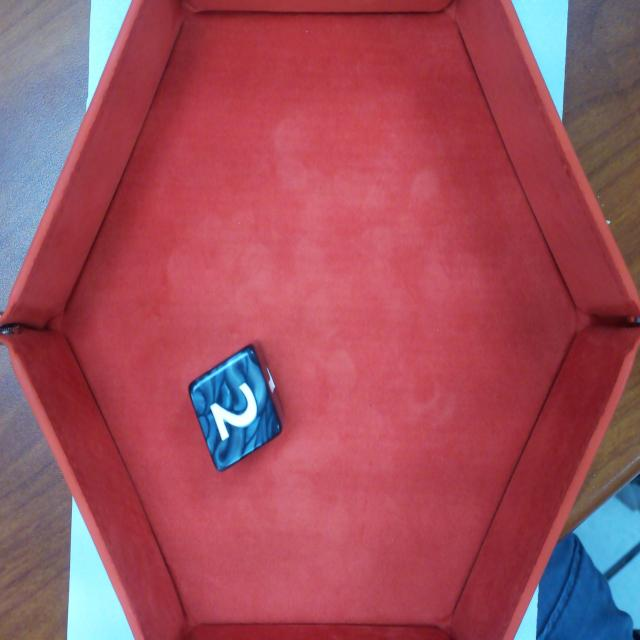dice: (194, 354, 276, 466)
